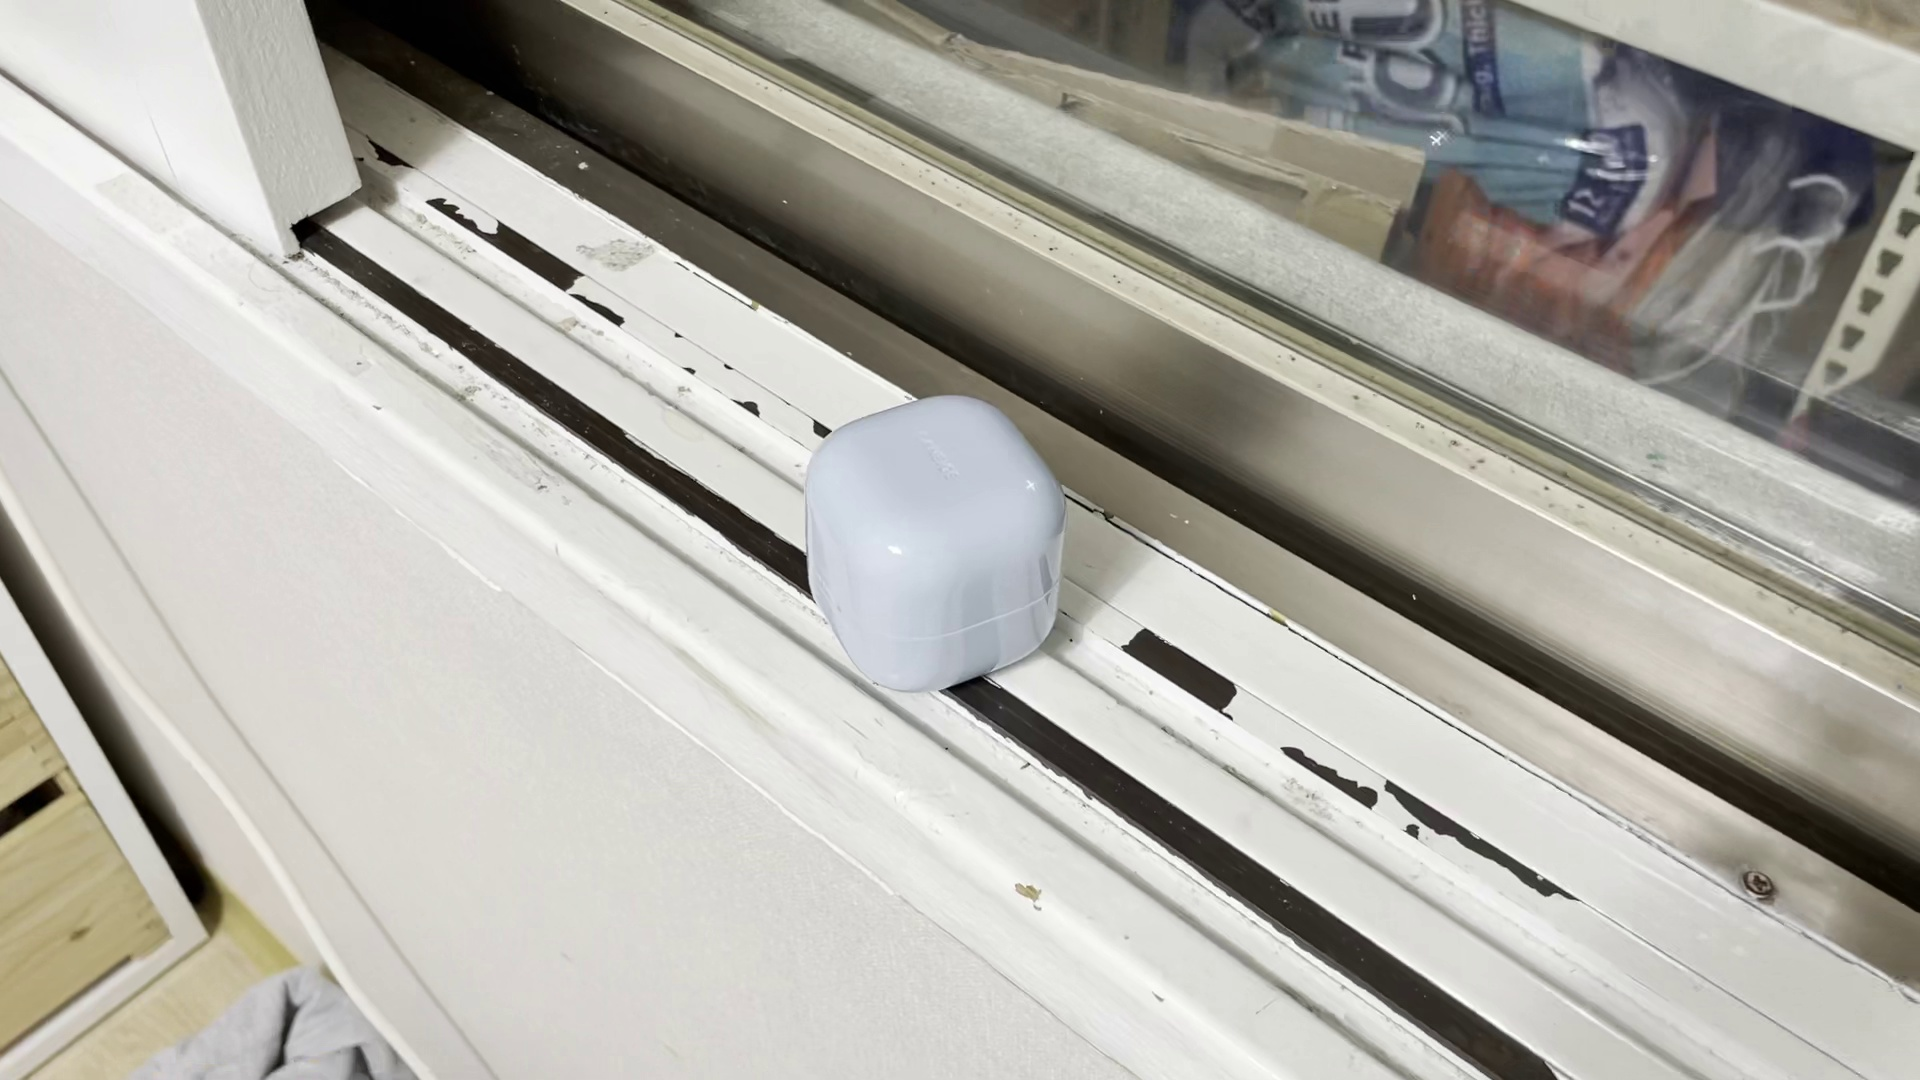cream: (799, 396, 1063, 699)
